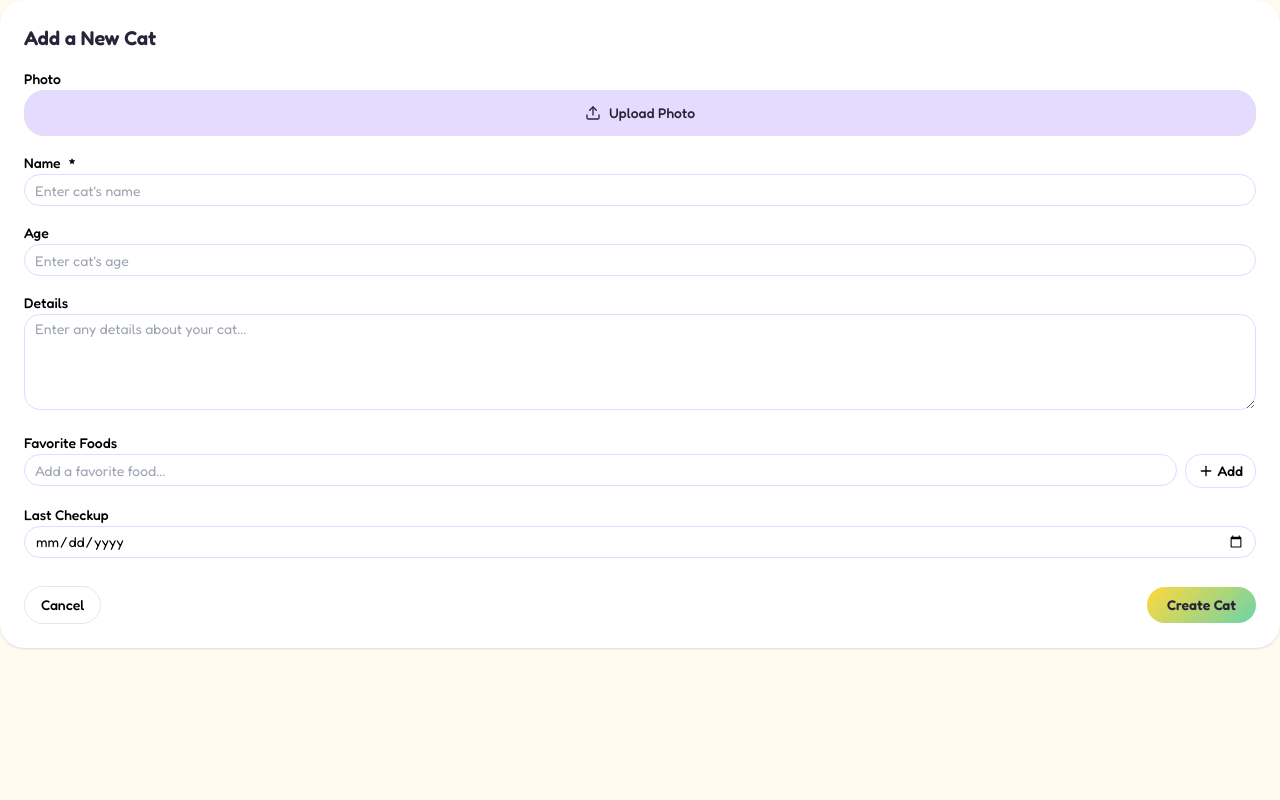
Test: CatForm › shows a validation error when submitting with an empty name
Step 1. Click the button "Create Cat" → click(1202, 605), box x1=1147 y1=587 x2=1256 y2=623
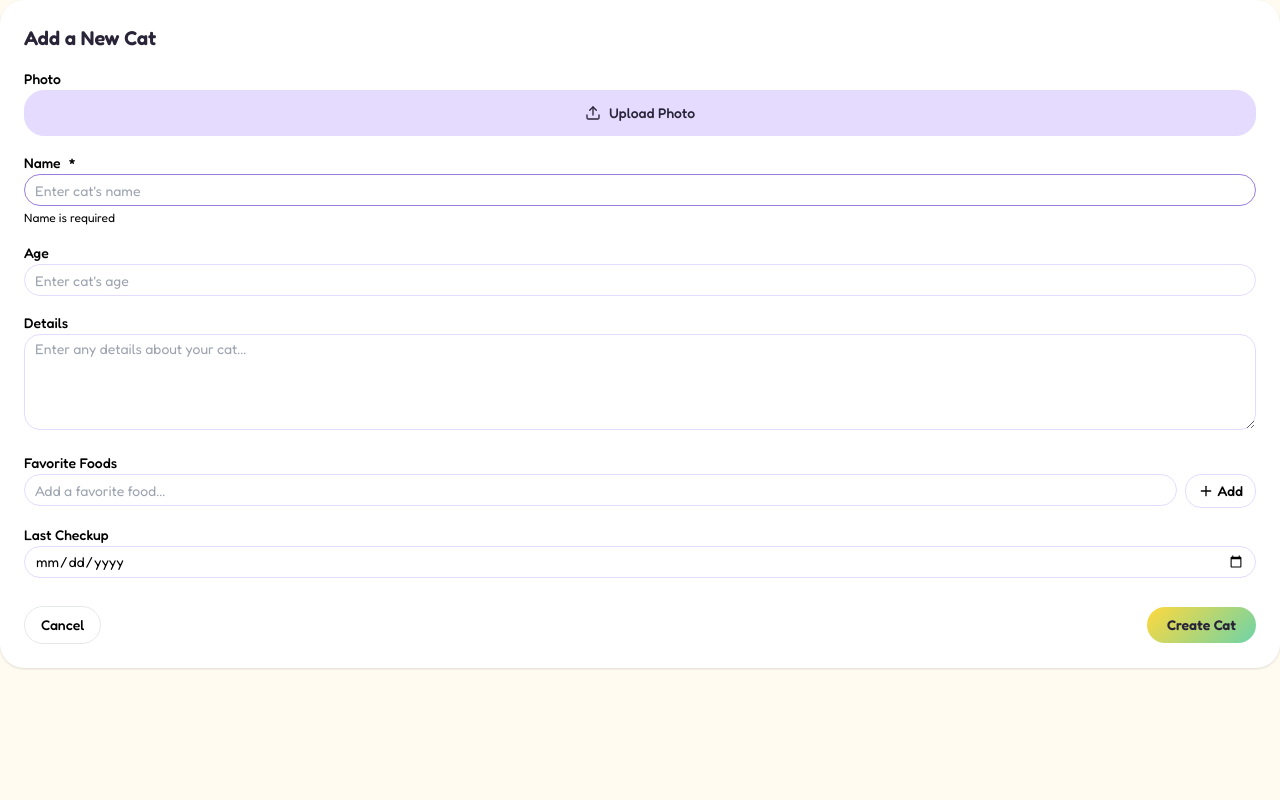
Result: the text "Name is required" is shown at x1=24 y1=210 x2=115 y2=225
